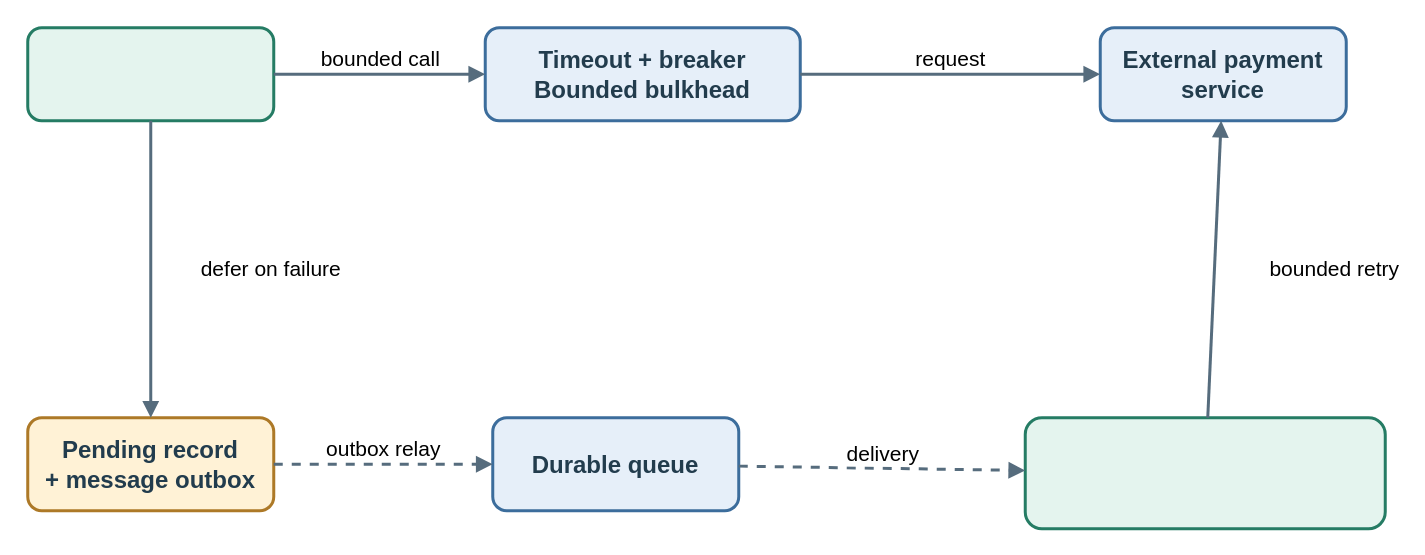
Some shapes in this 1425 by 555 pixel diagram are drawn without their labels. The box of each missing label's shape, as (x1, y1, x2, y2) in pixels:
Checkout handler: (26, 26, 274, 122)
Worker + result checking Stable operation identifier: (1023, 416, 1386, 530)
